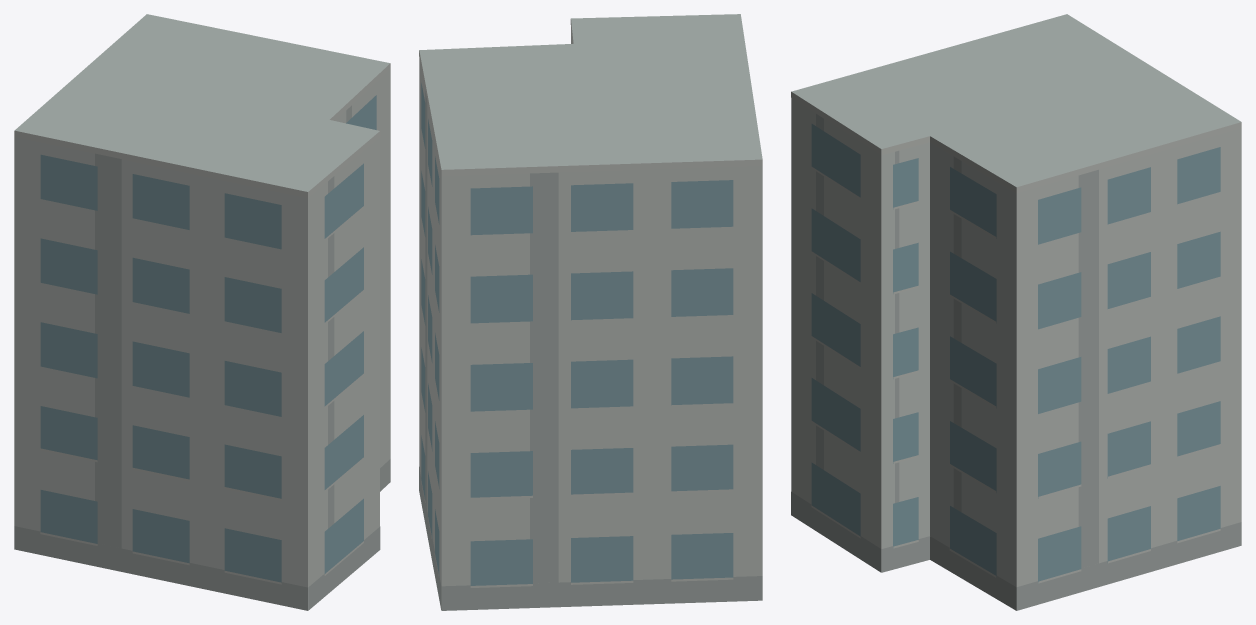
The model's file is survey-upis-32931660.glb.
3 views of the same model, side by side, from view 1: azimuth 30°, elevation 25°; view 2: azimuth 150°, elevation 25°; view 3: azimuth 270°, elevation 25° (orthographic). The views are drawn at different scales.
Parts seen in each view (by area): view 1: survey-upis-32931660.tmp; view 2: survey-upis-32931660.tmp; view 3: survey-upis-32931660.tmp.
Boxes of the visible parts, box(x1,y1,x2,y2) form: survey-upis-32931660.tmp: box(14, 14, 390, 610); survey-upis-32931660.tmp: box(419, 14, 762, 610); survey-upis-32931660.tmp: box(791, 14, 1241, 610).
Bounding box in the file's own units: 14.66 × 16.7 × 16.1.
